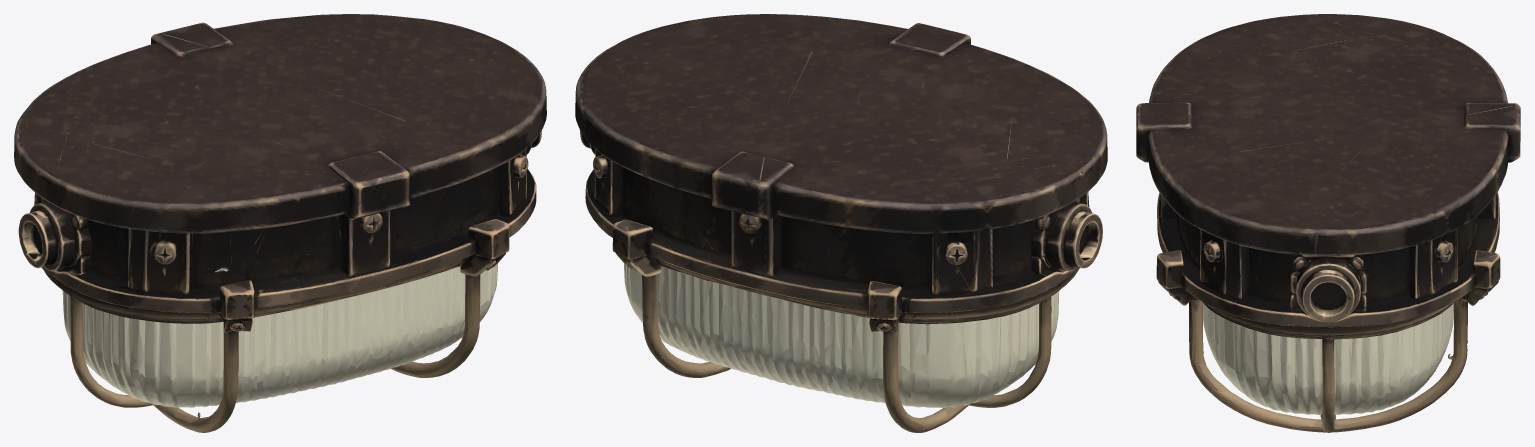
The model's file is LAMP.fbx.
The picture shows the model from 3 angles, left to right: view 1: azimuth 30°, elevation 25°; view 2: azimuth 150°, elevation 25°; view 3: azimuth 270°, elevation 25°; orthographic projection. The views are drawn at different scales.
Visible parts, largest first — view 1: Mesh_0; view 2: Mesh_0; view 3: Mesh_0.
Boxes of the visible parts, x1,y1,x2,y2 form: Mesh_0: [14, 14, 546, 432]; Mesh_0: [575, 14, 1107, 432]; Mesh_0: [1136, 14, 1520, 432].
Bounding box in the file's own units: 1789 × 1000 × 1293.
1 material, 1 textured.
